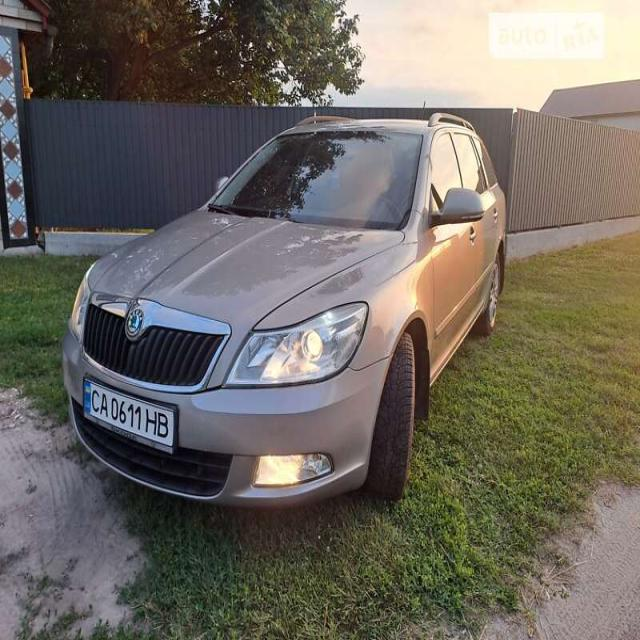plate: (77, 375, 180, 461)
